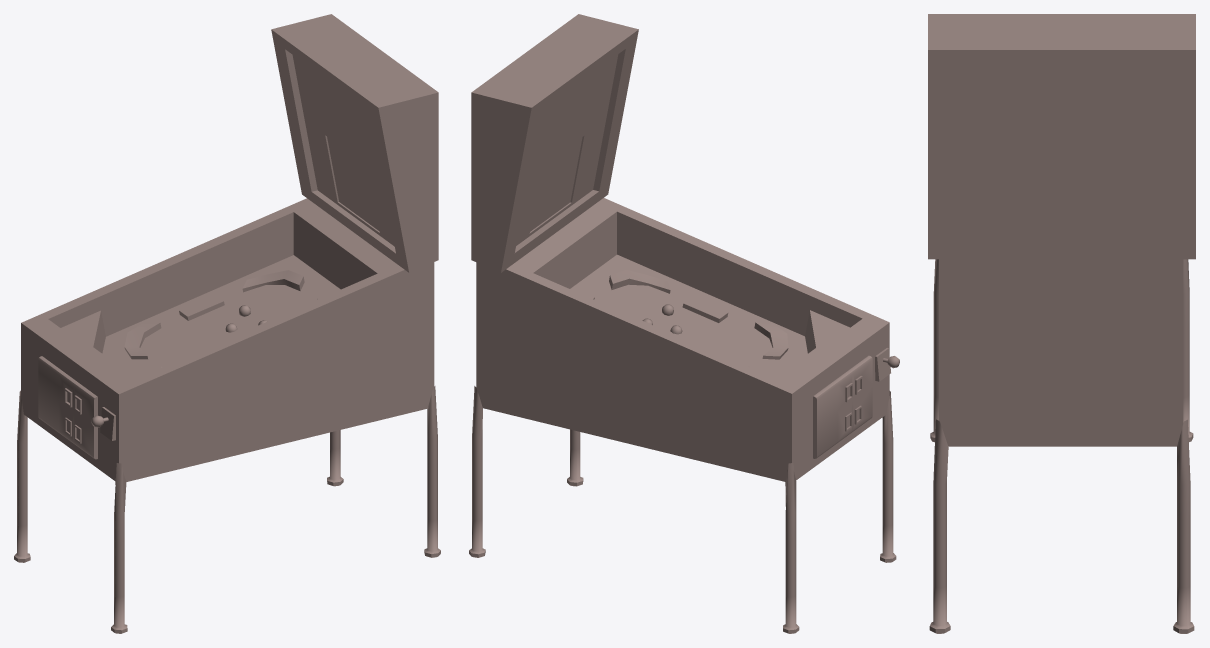
Rendered from PinBallMachine 1.fbx.
3 renders of one model, left to right at view 1: azimuth 30°, elevation 25°; view 2: azimuth 150°, elevation 25°; view 3: azimuth 270°, elevation 25°, orthographic. The views are drawn at different scales.
Parts seen in each view (by area): view 1: PinballMachine; view 2: PinballMachine; view 3: PinballMachine.
Part boxes in pixels (x1,y1,x2,y2): PinballMachine: [14, 14, 440, 633]; PinballMachine: [469, 14, 899, 633]; PinballMachine: [928, 14, 1195, 633].
Bounding box in the file's own units: 56.76 × 74.58 × 31.08.
